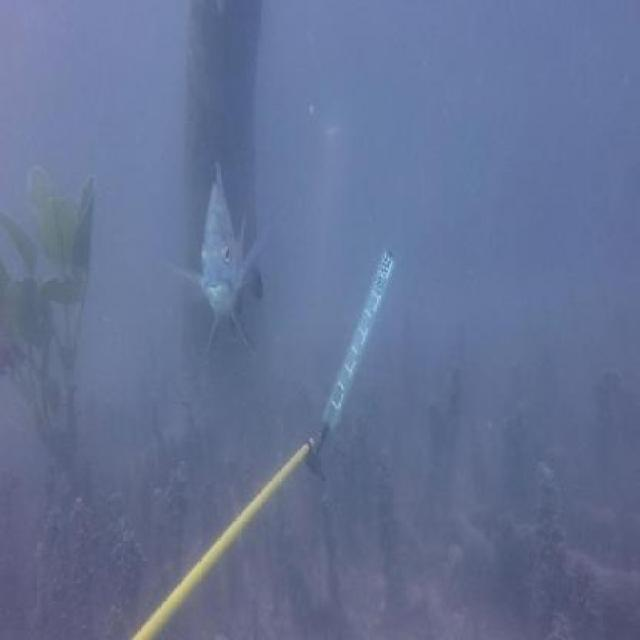acanthopagrus_palmaris: (168, 162, 280, 361)
